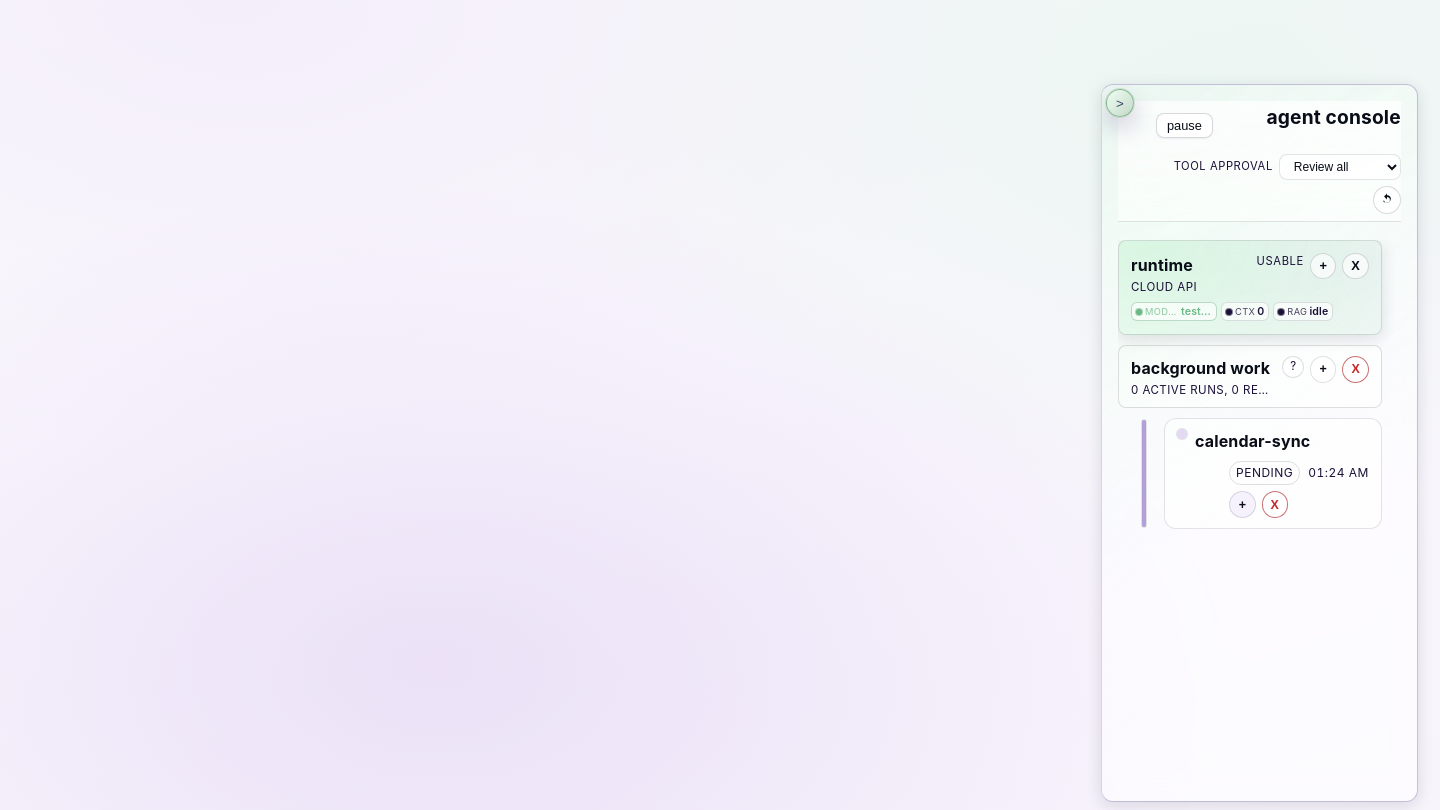
it: AgentConsole › renders agent activity and handles approve action
Expected: the heading "background work" is shown, [1131, 356, 1273, 380]
Expected: the element with class "right-header-title-row" is shown, [1156, 103, 1401, 148]
Click the button named "expand background" at (1323, 369), box [1310, 356, 1337, 383]
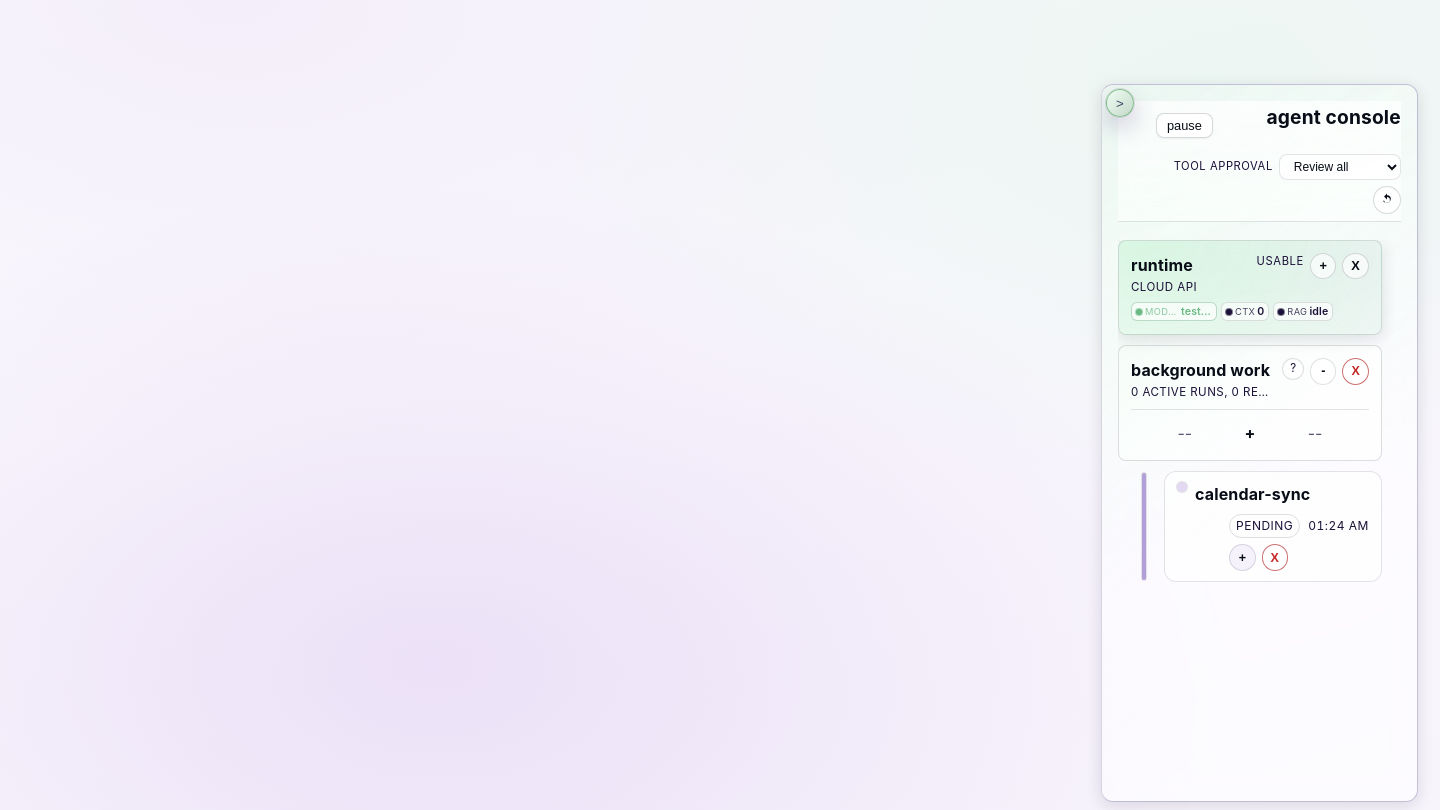
Expected: the button named "collapse background" reads "-", [1310, 358, 1337, 385]
Expected: the button named "add background work" is shown
Click the button named "add background work" at (1250, 434), box [1131, 418, 1369, 448]
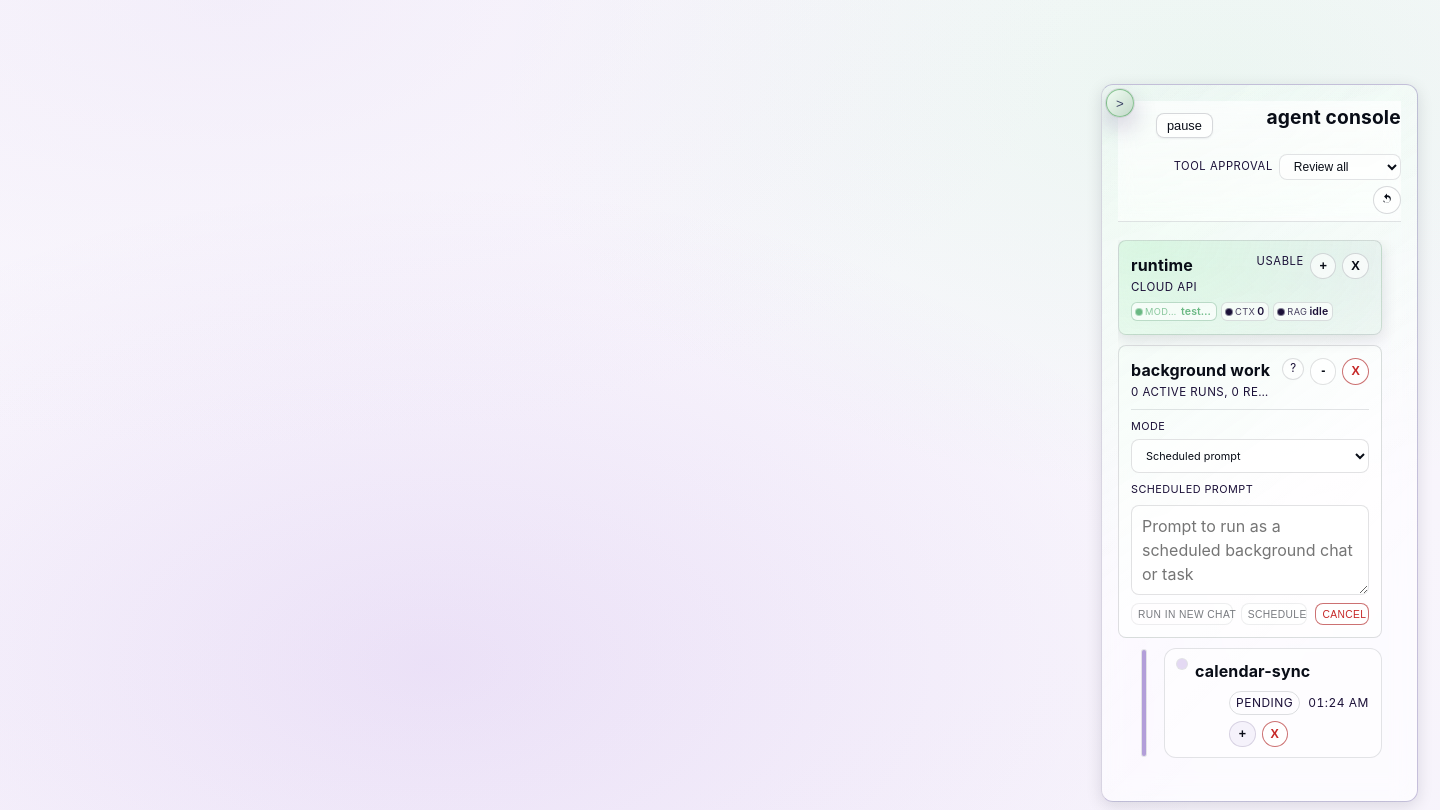
Expected: the text box labelled "Scheduled prompt" is shown
Type "Review the latest background queue" into the text box labelled "Scheduled prompt" at (1250, 550), box [1131, 505, 1369, 595]
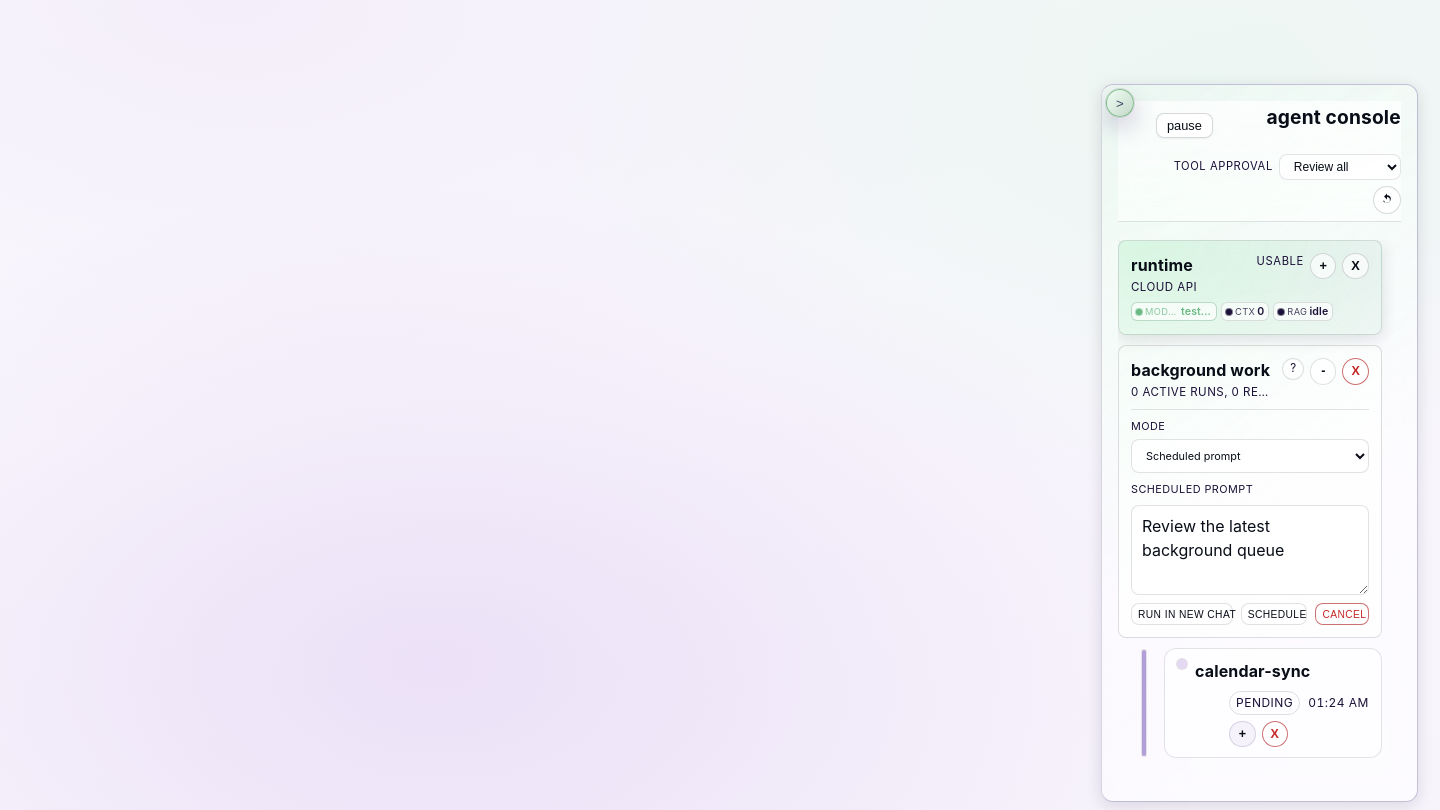
Click the button "Run in new chat" at (1182, 614), box [1131, 603, 1233, 625]
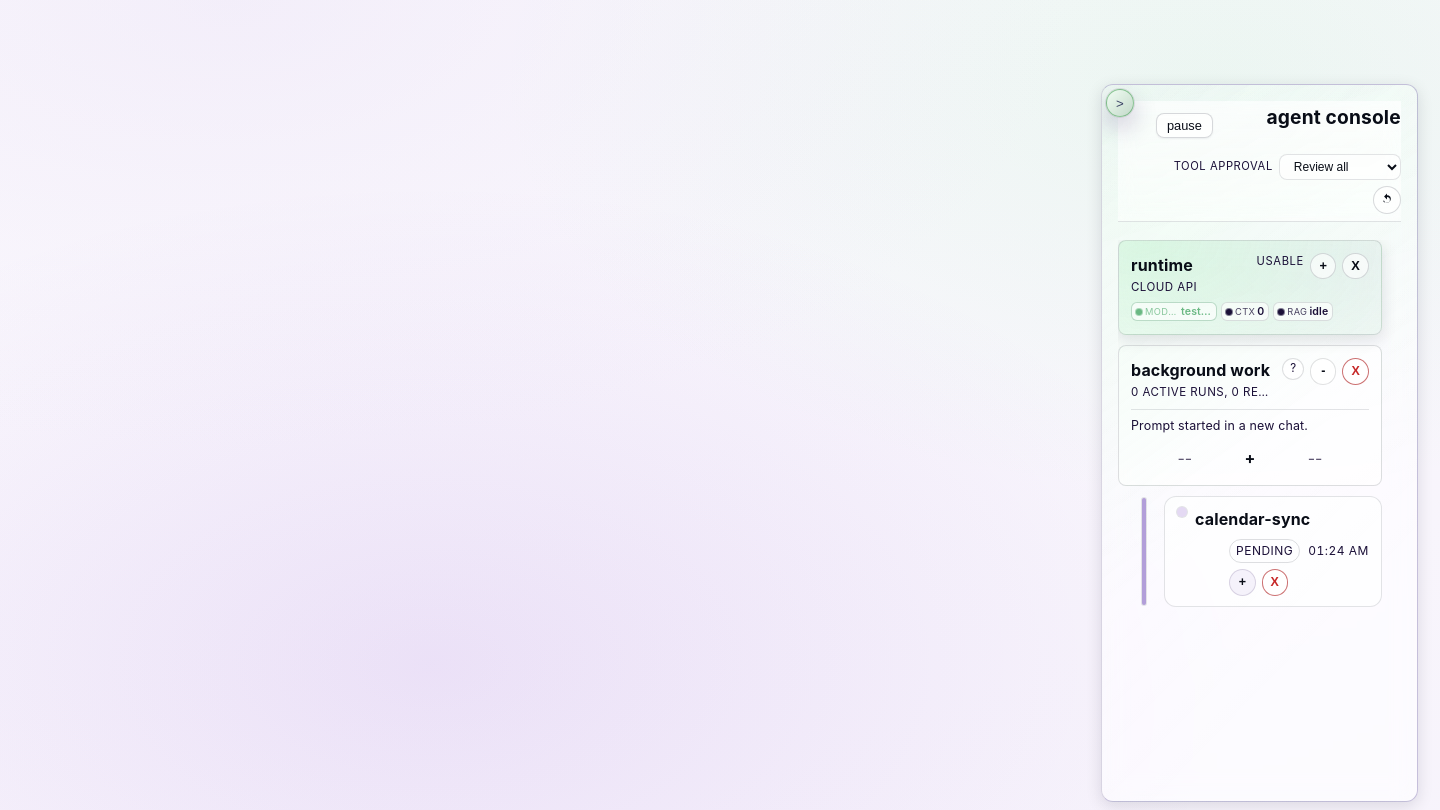
Expected: the heading "calendar-sync" is shown, [1195, 507, 1311, 531]
Expected: the text "Prompt started in a new chat." is shown, [1131, 418, 1308, 434]
Click the button named "expand agent card" at (1242, 582), box [1229, 569, 1256, 596]
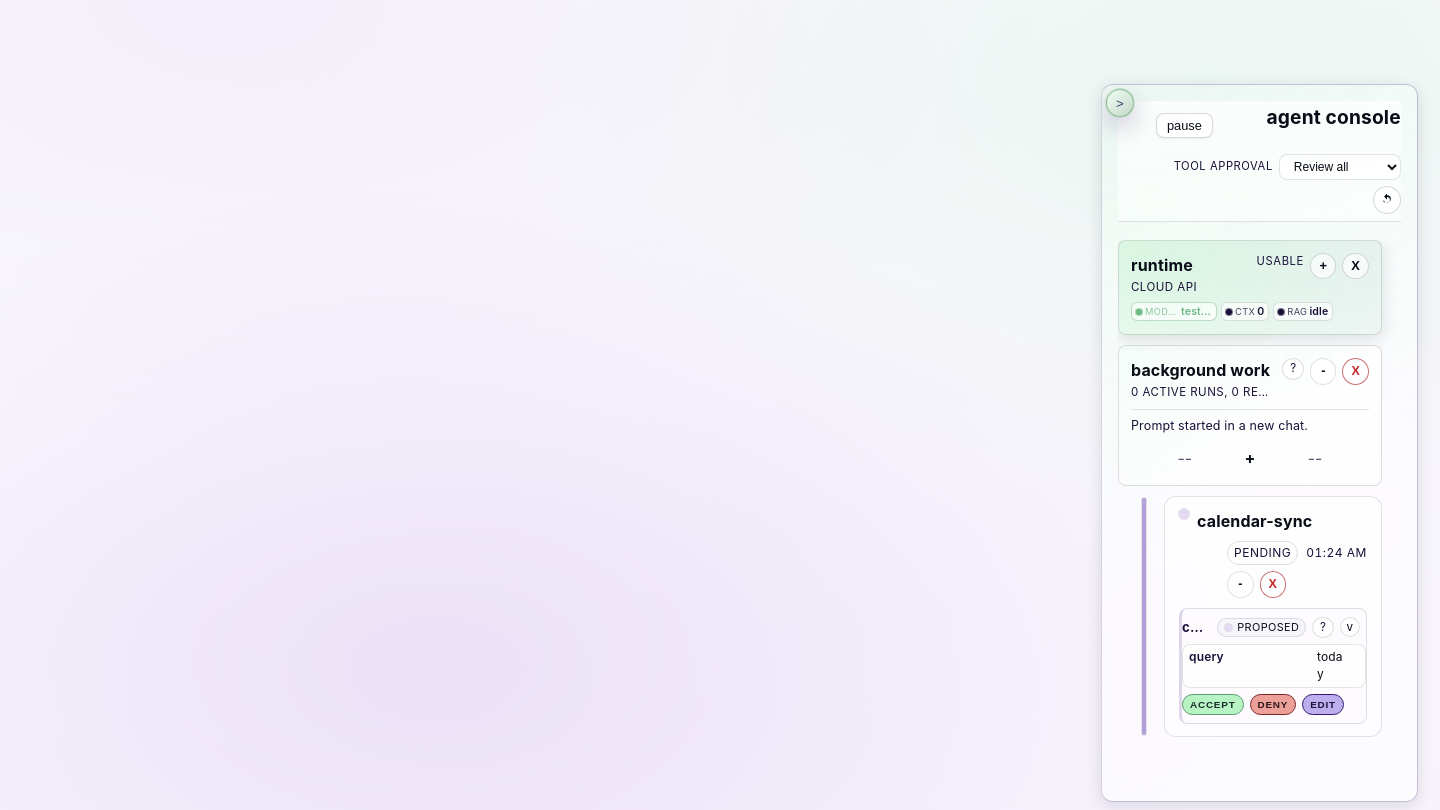
Expected: the heading "calendar-sync" is shown, [1197, 509, 1313, 533]
Expected: the button "calendar.lookup" is shown, [1182, 620, 1211, 635]
Expected: the button "calendar.lookup proposed ? v query today Accept Deny Edit" is shown, [1179, 608, 1367, 724]
